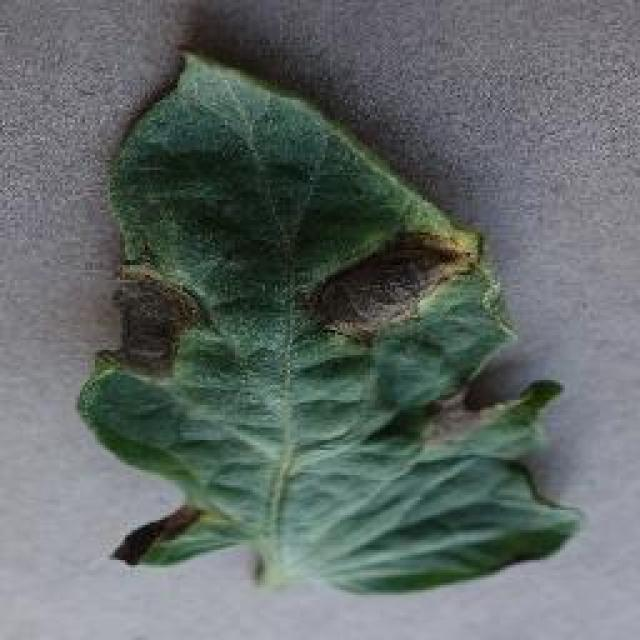Tomato Early blight leaf: (79, 48, 588, 597)
